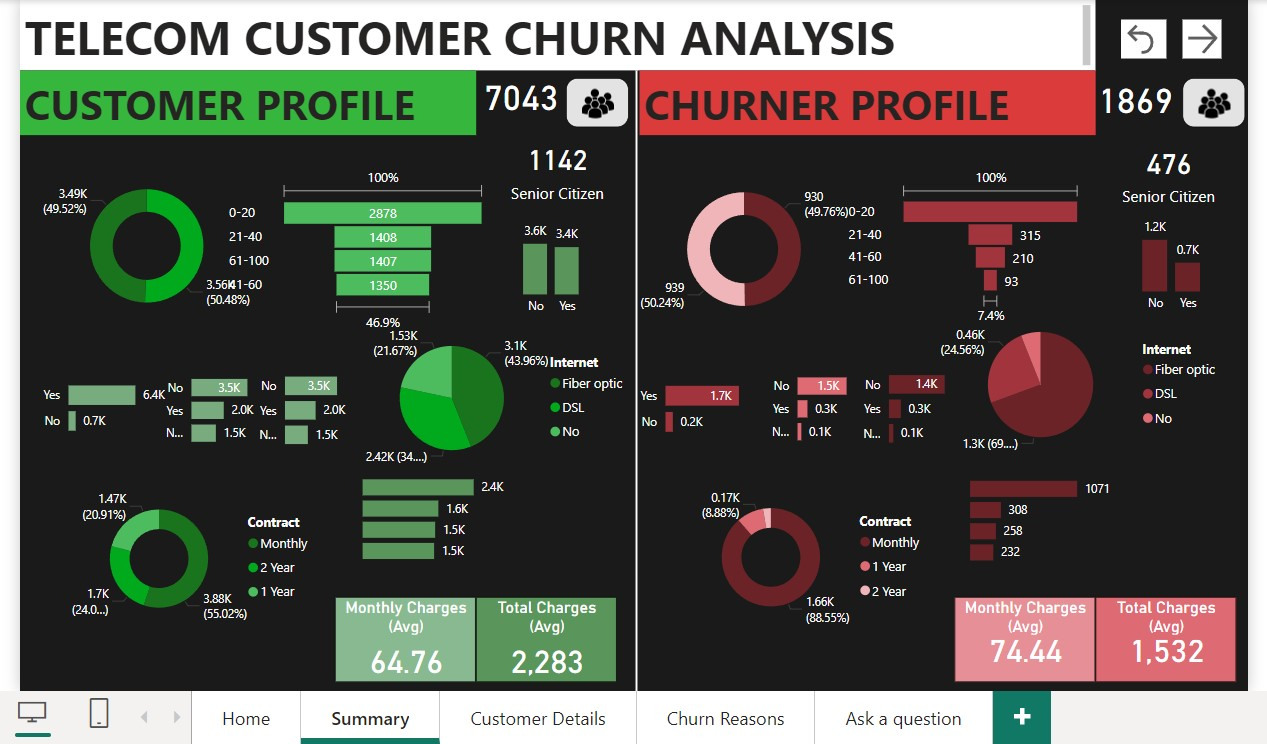

This screenshot's page, from the dashboard's own definition file:
{"tool":"powerbi","page":{"name":"Summary","canvas":[1280,720],"ordinal":1},"visuals":[{"type":"card","fields":{"Values":["CountNonNull(Churned_Data.Churn)"]},"box":[1089,83.6,161.2,54.9],"z":0},{"type":"card","fields":{"Values":["CountNonNull(Telco-Churn-Analysis.Churn)"]},"box":[456.5,84.7,161.6,54.9],"z":1000},{"type":"donutChart","fields":{"Category":["Telco-Churn-Analysis.gender"],"Y":["CountNonNull(Telco-Churn-Analysis.gender)"]},"box":[17.3,169.4,229,174.1],"z":2000},{"type":"donutChart","fields":{"Category":["Churned_Data.gender"],"Y":["CountNonNull(Churned_Data.gender)"]},"box":[639.9,172.2,229.6,174.6],"z":3000},{"type":"funnel","fields":{"Category":["Telco-Churn-Analysis.Tenure_Bin"],"Y":["CountNonNull(Telco-Churn-Analysis.Tenure_Bin)"]},"box":[212.9,169.1,278,180.4],"z":4000},{"type":"funnel","fields":{"Category":["Churned_Data.Tenure_Bin"],"Y":["CountNonNull(Churned_Data.Tenure_Bin)"]},"box":[858.5,169.6,253.1,174.3],"z":5000},{"type":"card","fields":{"Values":["Sum(Telco-Churn-Analysis.SeniorCitizen)"]},"box":[505.1,138,109.8,76.9],"z":6000},{"type":"card","fields":{"Values":["Sum(Churned_Data.SeniorCitizen)"]},"box":[1140.4,141.2,111.4,78.4],"z":7000},{"type":"clusteredColumnChart","fields":{"Category":["Telco-Churn-Analysis.Partner"],"Y":["CountNonNull(Telco-Churn-Analysis.Partner)"]},"box":[489.4,219.6,128.6,116.1],"z":8000},{"type":"clusteredColumnChart","fields":{"Category":["Churned_Data.Partner"],"Y":["CountNonNull(Churned_Data.Partner)"]},"box":[1132.5,214.9,133.3,119.2],"z":9000},{"type":"clusteredBarChart","fields":{"Category":["Telco-Churn-Analysis.PhoneService"],"Y":["CountNonNull(Telco-Churn-Analysis.PhoneService)"]},"box":[17.3,363.9,139.6,114.5],"z":10000},{"type":"clusteredBarChart","fields":{"Category":["Churned_Data.PhoneService"],"Y":["CountNonNull(Churned_Data.PhoneService)"]},"box":[640,363.9,141.2,116.1],"z":11000},{"type":"clusteredBarChart","fields":{"Category":["Telco-Churn-Analysis.OnlineSecurity"],"Y":["CountNonNull(Telco-Churn-Analysis.OnlineSecurity)"]},"box":[131.8,371.8,134.9,103.5],"z":12000},{"type":"clusteredBarChart","fields":{"Category":["Churned_Data.OnlineSecurity"],"Y":["CountNonNull(Churned_Data.OnlineSecurity)"]},"box":[765.5,370.2,125.5,103.5],"z":13000},{"type":"clusteredBarChart","fields":{"Category":["Telco-Churn-Analysis.TechSupport"],"Y":["CountNonNull(Telco-Churn-Analysis.TechSupport)"]},"box":[229,368.6,133.3,109.8],"z":14000},{"type":"clusteredBarChart","fields":{"Category":["Churned_Data.TechSupport"],"Y":["CountNonNull(Churned_Data.TechSupport)"]},"box":[858,367.1,136.5,109.8],"z":15000},{"type":"pieChart","fields":{"Y":["CountNonNull(Telco-Churn-Analysis.InternetService)"],"Category":["Telco-Churn-Analysis.InternetService"]},"box":[342,334.1,299.6,160],"z":16000},{"type":"pieChart","fields":{"Category":["Churned_Data.InternetService"],"Y":["CountNonNull(Churned_Data.InternetService)"]},"box":[952.2,320,307.5,160],"z":17000},{"type":"donutChart","fields":{"Category":["Telco-Churn-Analysis.Contract"],"Y":["CountNonNull(Telco-Churn-Analysis.Contract)"]},"box":[47.1,505.1,268.2,153.7],"z":18000},{"type":"donutChart","fields":{"Category":["Churned_Data.Contract"],"Y":["CountNonNull(Churned_Data.Contract)"]},"box":[683.8,503.5,268,154.1],"z":19000},{"type":"clusteredBarChart","fields":{"Category":["Telco-Churn-Analysis.PaymentMethod"],"Y":["CountNonNull(Telco-Churn-Analysis.PaymentMethod)"]},"box":[351.4,486.3,161.6,102],"z":20000},{"type":"clusteredBarChart","fields":{"Category":["Churned_Data.PaymentMethod"],"Y":["CountNonNull(Churned_Data.PaymentMethod)"]},"box":[985.1,487.8,160,102],"z":21000},{"type":"card","title":"Monthly Charges (Avg)","fields":{"Values":["Avg(Telco-Churn-Analysis.MonthlyCharges)"]},"box":[328.1,622.5,146.5,88.9],"z":22000},{"type":"card","title":"Monthly Charges (Avg)","fields":{"Values":["Avg(Churned_Data.MonthlyCharges)"]},"box":[974.4,622.5,146.5,88.9],"z":23000},{"type":"card","title":"Total Charges (Avg)","fields":{"Values":["Avg(Churned_Data.TotalCharges)"]},"box":[1120.9,622.5,146.5,88.9],"z":24000},{"type":"card","title":"Total Charges (Avg)","fields":{"Values":["Avg(Telco-Churn-Analysis.TotalCharges)"]},"box":[474.7,622.5,146.5,88.9],"z":25000},{"type":"actionButton","box":[1211,20.4,40.8,40.8],"z":26000},{"type":"actionButton","box":[1146.7,20.4,47.1,40.8],"z":27000}]}

Visuals, with their boxes on the page's 1280x720 design canvas (x1, y1, x2, y2). These are canvas units, not pixel positions in the 1267x744 screenshot, which may show the page scaled, cropped or inside an application window:
card - CountNonNull(Churned_Data.Churn): l=1089, t=84, r=1250, b=138
card - CountNonNull(Telco-Churn-Analysis.Churn): l=456, t=85, r=618, b=140
donutChart - Telco-Churn-Analysis.gender x CountNonNull(Telco-Churn-Analysis.gender): l=17, t=169, r=246, b=344
donutChart - Churned_Data.gender x CountNonNull(Churned_Data.gender): l=640, t=172, r=870, b=347
funnel - Telco-Churn-Analysis.Tenure_Bin x CountNonNull(Telco-Churn-Analysis.Tenure_Bin): l=213, t=169, r=491, b=350
funnel - Churned_Data.Tenure_Bin x CountNonNull(Churned_Data.Tenure_Bin): l=858, t=170, r=1112, b=344
card - Sum(Telco-Churn-Analysis.SeniorCitizen): l=505, t=138, r=615, b=215
card - Sum(Churned_Data.SeniorCitizen): l=1140, t=141, r=1252, b=220
clusteredColumnChart - Telco-Churn-Analysis.Partner x CountNonNull(Telco-Churn-Analysis.Partner): l=489, t=220, r=618, b=336
clusteredColumnChart - Churned_Data.Partner x CountNonNull(Churned_Data.Partner): l=1132, t=215, r=1266, b=334
clusteredBarChart - Telco-Churn-Analysis.PhoneService x CountNonNull(Telco-Churn-Analysis.PhoneService): l=17, t=364, r=157, b=478
clusteredBarChart - Churned_Data.PhoneService x CountNonNull(Churned_Data.PhoneService): l=640, t=364, r=781, b=480
clusteredBarChart - Telco-Churn-Analysis.OnlineSecurity x CountNonNull(Telco-Churn-Analysis.OnlineSecurity): l=132, t=372, r=267, b=475
clusteredBarChart - Churned_Data.OnlineSecurity x CountNonNull(Churned_Data.OnlineSecurity): l=766, t=370, r=891, b=474
clusteredBarChart - Telco-Churn-Analysis.TechSupport x CountNonNull(Telco-Churn-Analysis.TechSupport): l=229, t=369, r=362, b=478
clusteredBarChart - Churned_Data.TechSupport x CountNonNull(Churned_Data.TechSupport): l=858, t=367, r=994, b=477
pieChart - CountNonNull(Telco-Churn-Analysis.InternetService) x Telco-Churn-Analysis.InternetService: l=342, t=334, r=642, b=494
pieChart - Churned_Data.InternetService x CountNonNull(Churned_Data.InternetService): l=952, t=320, r=1260, b=480
donutChart - Telco-Churn-Analysis.Contract x CountNonNull(Telco-Churn-Analysis.Contract): l=47, t=505, r=315, b=659
donutChart - Churned_Data.Contract x CountNonNull(Churned_Data.Contract): l=684, t=504, r=952, b=658
clusteredBarChart - Telco-Churn-Analysis.PaymentMethod x CountNonNull(Telco-Churn-Analysis.PaymentMethod): l=351, t=486, r=513, b=588
clusteredBarChart - Churned_Data.PaymentMethod x CountNonNull(Churned_Data.PaymentMethod): l=985, t=488, r=1145, b=590
"Monthly Charges (Avg)" card: l=328, t=622, r=475, b=711
"Monthly Charges (Avg)" card: l=974, t=622, r=1121, b=711
"Total Charges (Avg)" card: l=1121, t=622, r=1267, b=711
"Total Charges (Avg)" card: l=475, t=622, r=621, b=711
actionButton: l=1211, t=20, r=1252, b=61
actionButton: l=1147, t=20, r=1194, b=61
